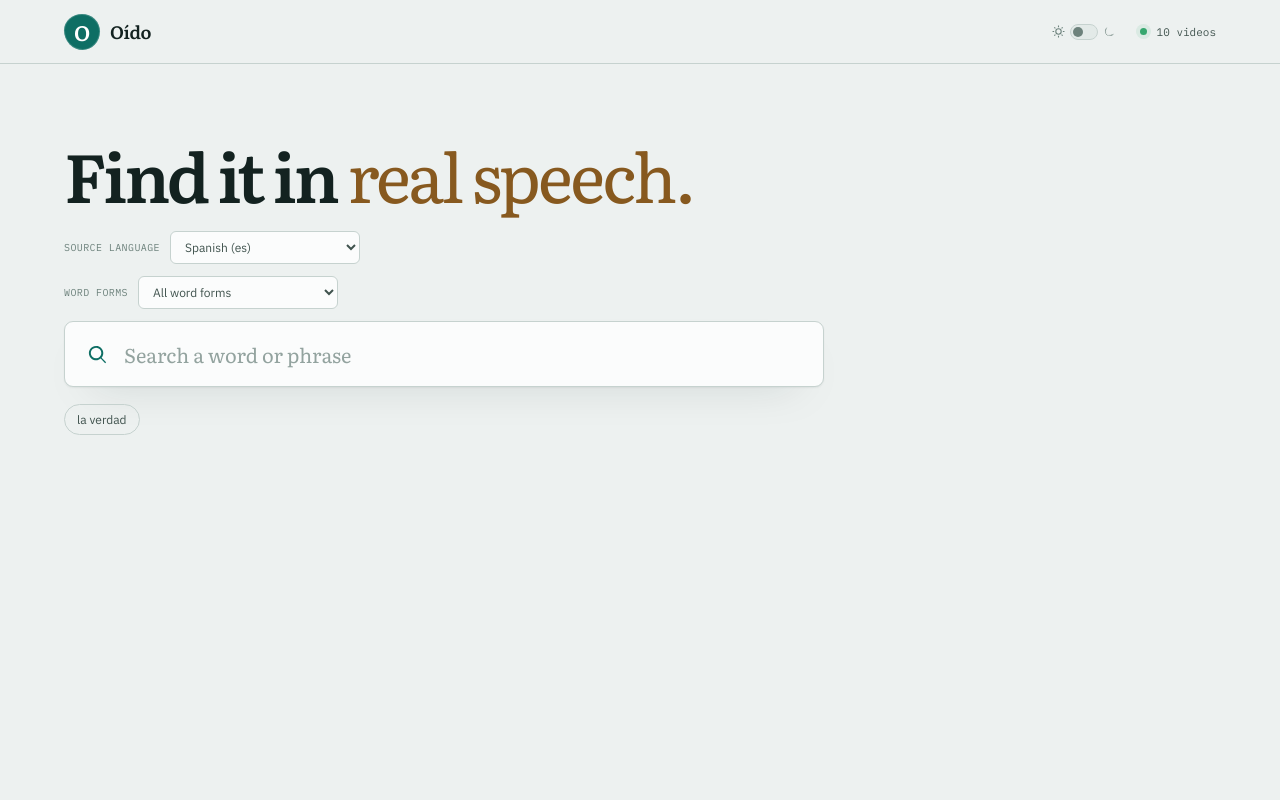
Scenario: offers corpus suggestions and loads diverse results
Check: the text "10 videos" is shown, box [1157,24,1216,38]
Click the button "la verdad" at (102, 420), box [64,404,140,435]
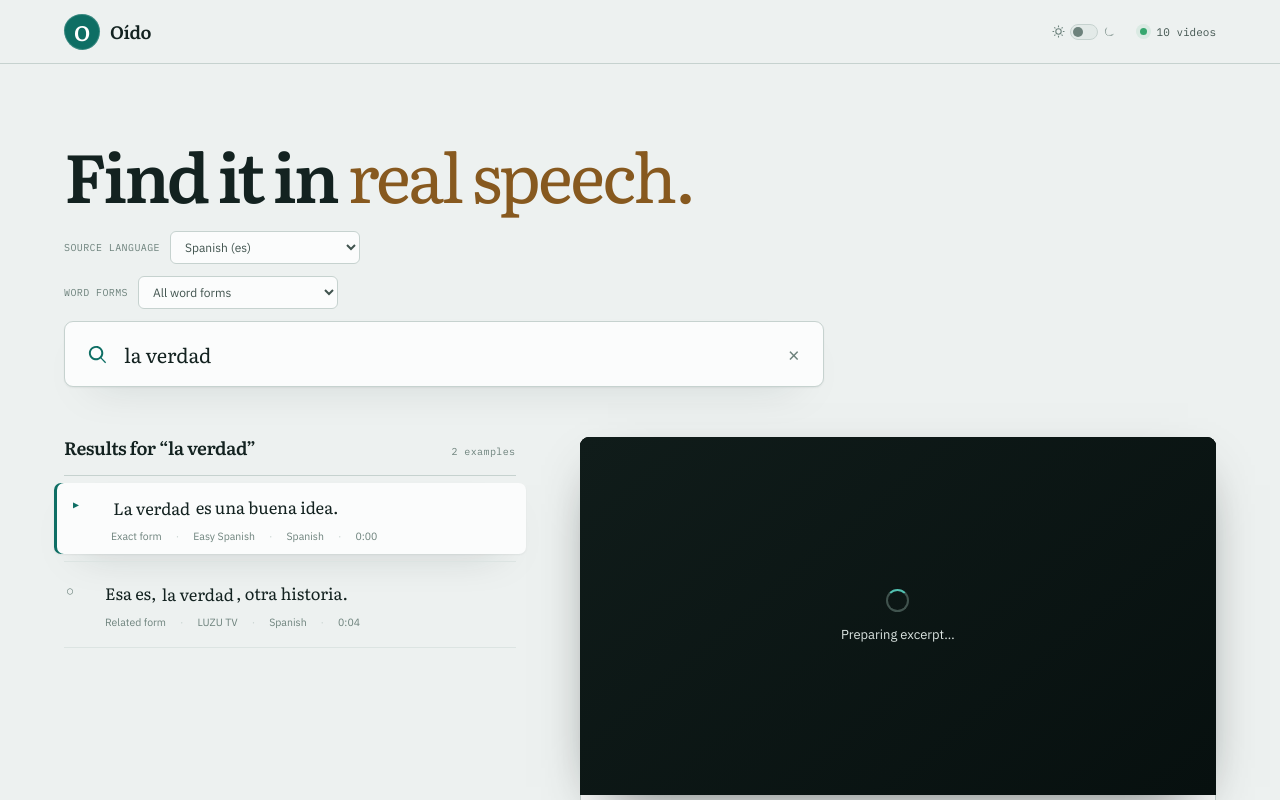
Check: the heading "Results for “la verdad”" is shown, box [64,437,256,460]
Check: the text "Easy Spanish" is shown, box [176,529,255,543]
Check: the text "LUZU TV" is shown, box [180,615,238,629]
